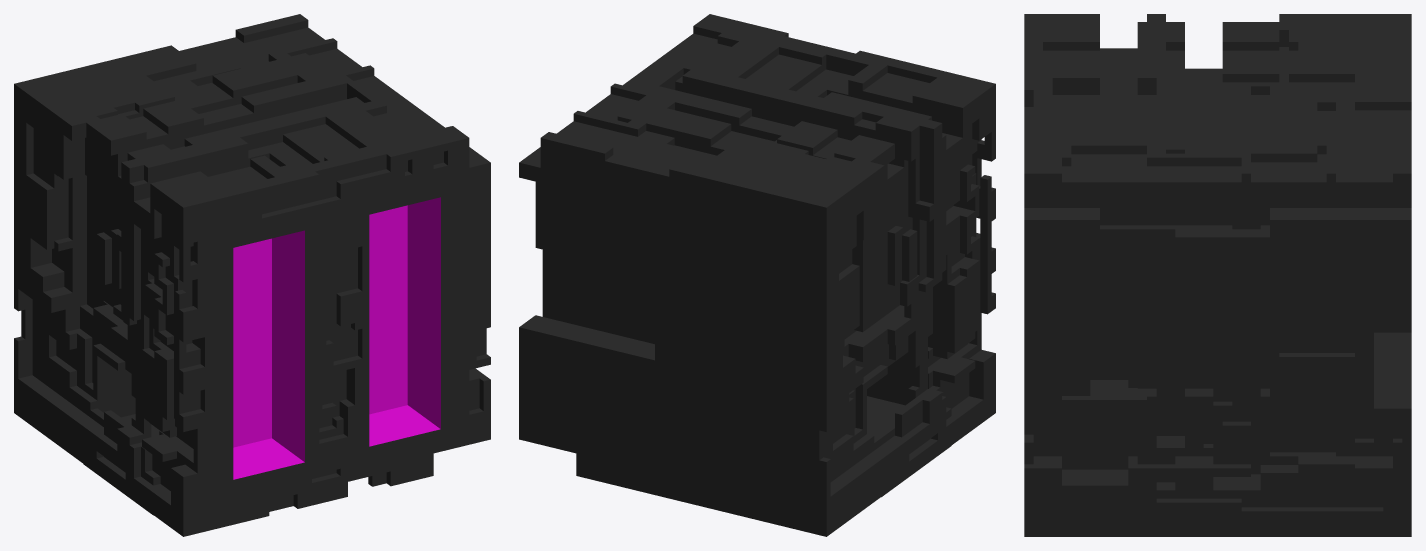
File: Pause.fbx
The picture shows the model from 3 angles, left to right: view 1: azimuth 30°, elevation 25°; view 2: azimuth 150°, elevation 25°; view 3: azimuth 270°, elevation 25°; orthographic projection. The views are drawn at different scales.
Parts seen in each view (by area): view 1: bnt_pausa_1:polySurface1; view 2: bnt_pausa_1:polySurface1; view 3: bnt_pausa_1:polySurface1.
Part boxes in pixels (x1,y1,x2,y2): bnt_pausa_1:polySurface1: [14, 14, 490, 536]; bnt_pausa_1:polySurface1: [519, 14, 995, 536]; bnt_pausa_1:polySurface1: [1024, 14, 1411, 536].
Bounding box in the file's own units: 3.57 × 3.74 × 3.41.
